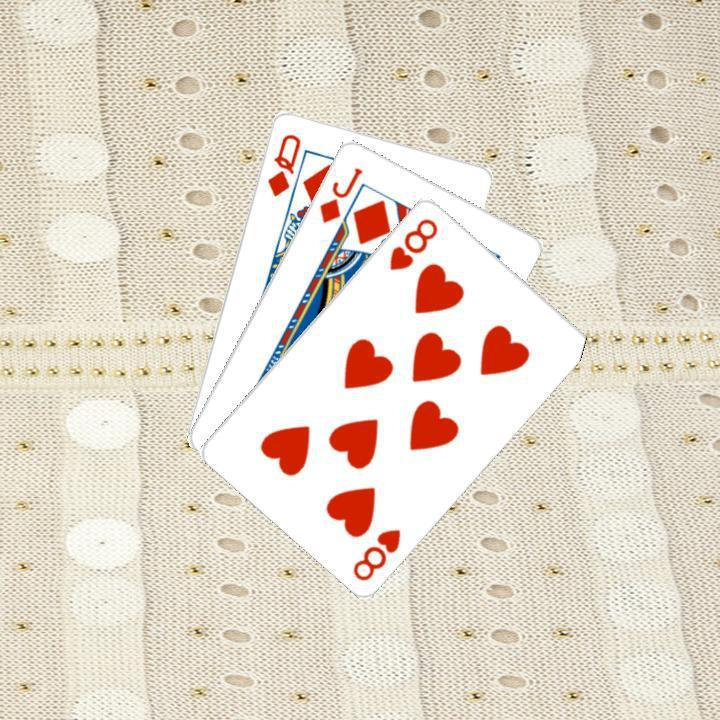8: (384, 213, 440, 272), (348, 523, 403, 583)
J: (314, 162, 365, 225)
Q: (262, 128, 303, 198)
